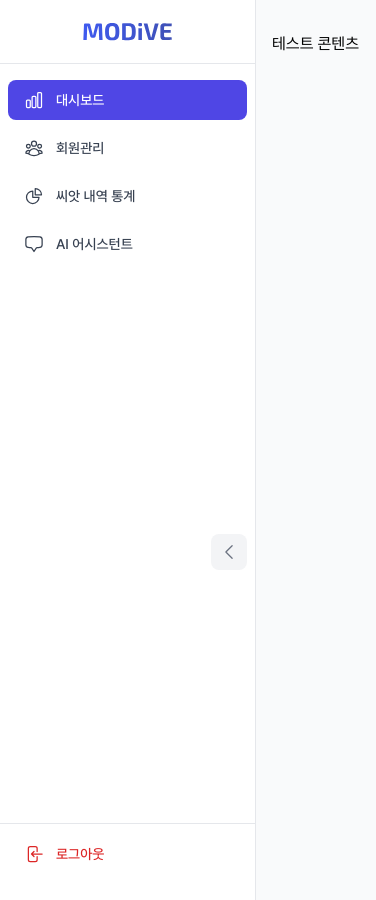
Test: Layout › TC-LAYOUT-008::Unit::컴포넌트 렌더링::사이드바 접힌 상태::로고가 단축 표시됨
The width and height of the screenshot is (376, 900).
접기 버튼 클릭
What coordinates should you click on to do the following:
click the button titled "사이드바 접기"
I would click on:
 (229, 552)
Its box is [211, 534, 247, 570].
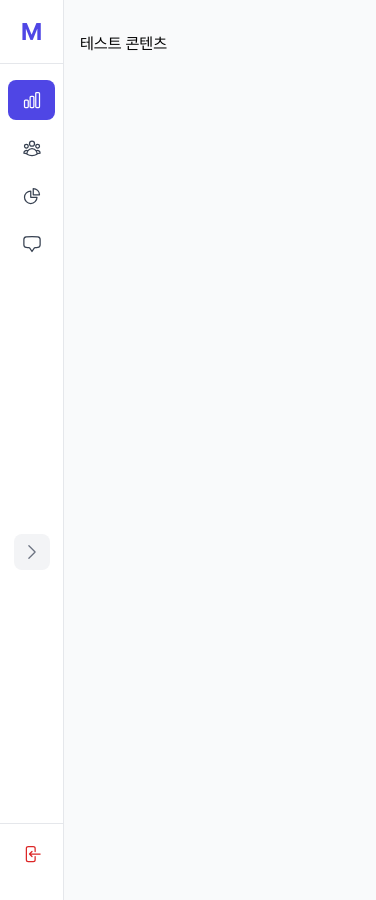
Check: the text "M" is shown, box [21, 16, 42, 48]
